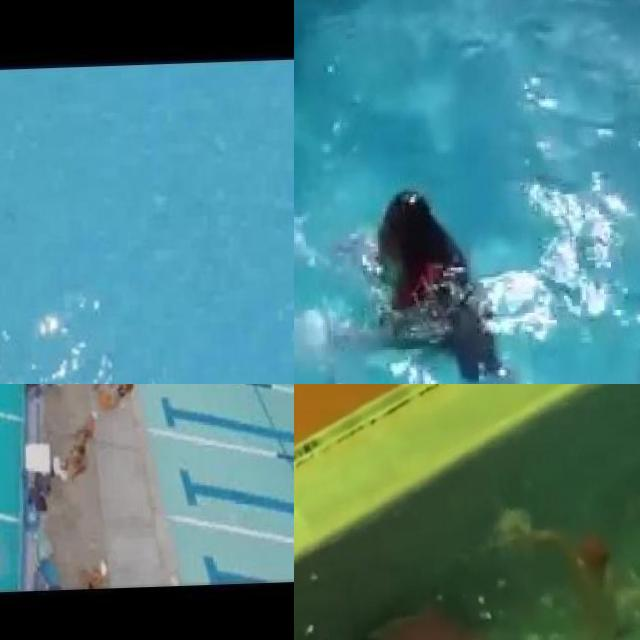drowning: (333, 169, 523, 384), (495, 488, 640, 640)
out of water: (60, 442, 90, 481), (75, 406, 98, 434), (110, 384, 140, 398)
